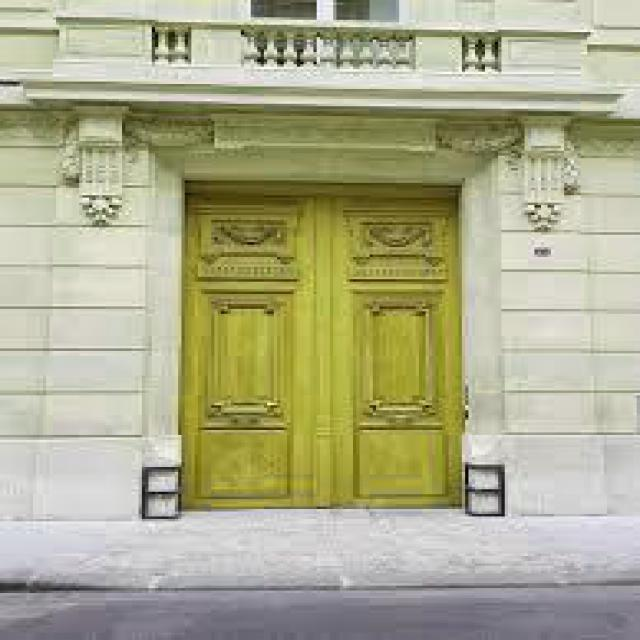Door: (155, 153, 472, 529)
